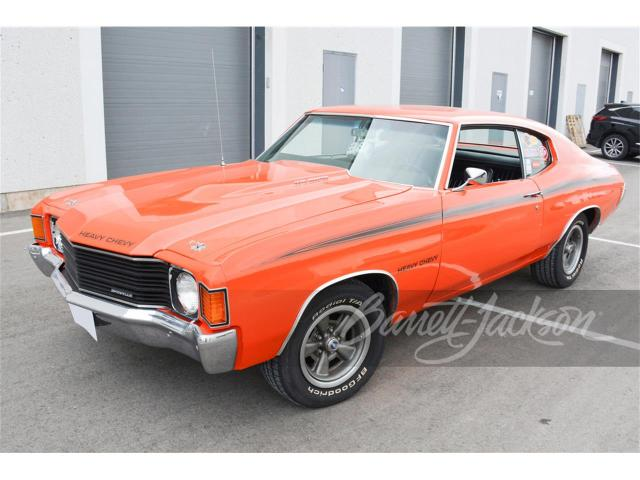chevelle-1972: (28, 105, 626, 407)
